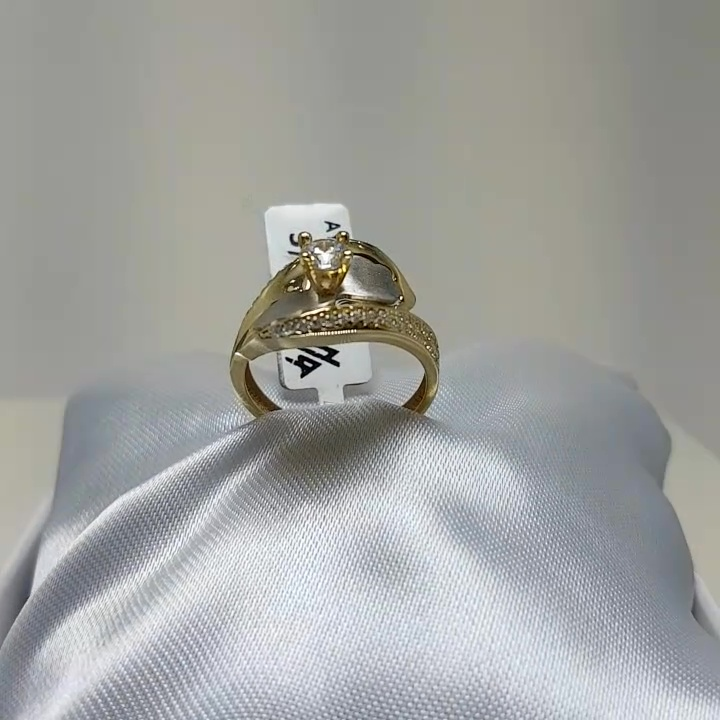Ring 6: (201, 210, 468, 465)
